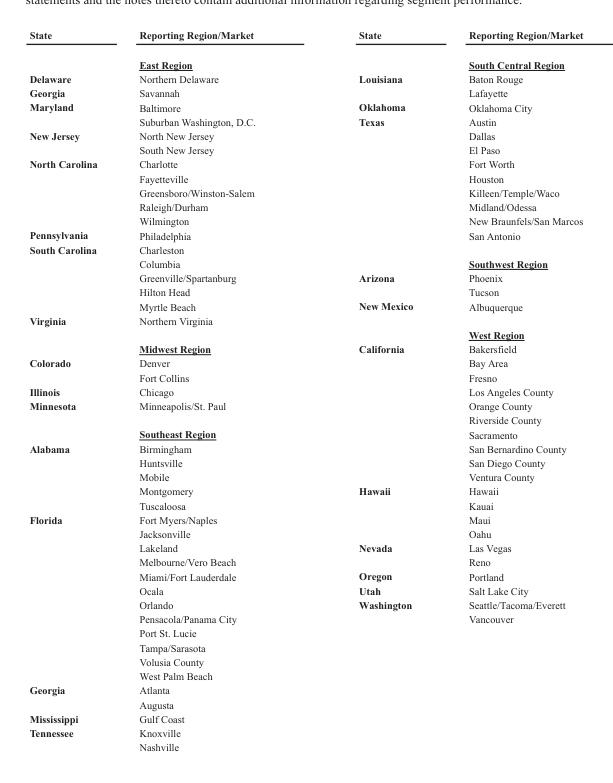table: (28, 28, 582, 752)
table column: (117, 28, 306, 752), (440, 28, 582, 752), (306, 28, 440, 752), (28, 28, 117, 752)
table column header: (28, 28, 582, 71)
table row: (28, 28, 582, 71), (28, 99, 582, 114), (28, 156, 582, 171), (28, 227, 582, 242), (28, 298, 582, 313), (28, 355, 582, 370), (28, 426, 582, 441), (28, 497, 582, 512), (28, 568, 582, 583), (28, 625, 582, 640), (28, 696, 582, 711), (28, 71, 582, 85), (28, 85, 582, 99), (28, 114, 582, 128), (28, 128, 582, 142), (28, 142, 582, 156), (28, 171, 582, 185), (28, 185, 582, 199), (28, 199, 582, 213), (28, 213, 582, 227), (28, 242, 582, 256), (28, 256, 582, 270), (28, 270, 582, 284), (28, 284, 582, 298), (28, 313, 582, 327), (28, 327, 582, 341), (28, 341, 582, 355), (28, 370, 582, 384), (28, 384, 582, 398), (28, 398, 582, 412), (28, 412, 582, 426), (28, 441, 582, 455), (28, 455, 582, 469), (28, 469, 582, 483), (28, 483, 582, 497), (28, 512, 582, 526), (28, 526, 582, 540), (28, 540, 582, 554), (28, 554, 582, 568), (28, 583, 582, 597), (28, 597, 582, 611), (28, 611, 582, 625), (28, 640, 582, 654), (28, 654, 582, 668), (28, 668, 582, 682), (28, 682, 582, 696), (28, 711, 582, 725), (28, 725, 582, 739), (28, 739, 582, 752)
table spanning cell: (28, 512, 117, 682), (28, 156, 117, 227), (28, 242, 117, 313), (28, 441, 117, 512), (28, 398, 117, 441), (28, 313, 117, 355), (28, 99, 117, 128), (28, 355, 117, 384), (28, 682, 117, 711), (28, 128, 117, 156), (28, 725, 117, 752)
